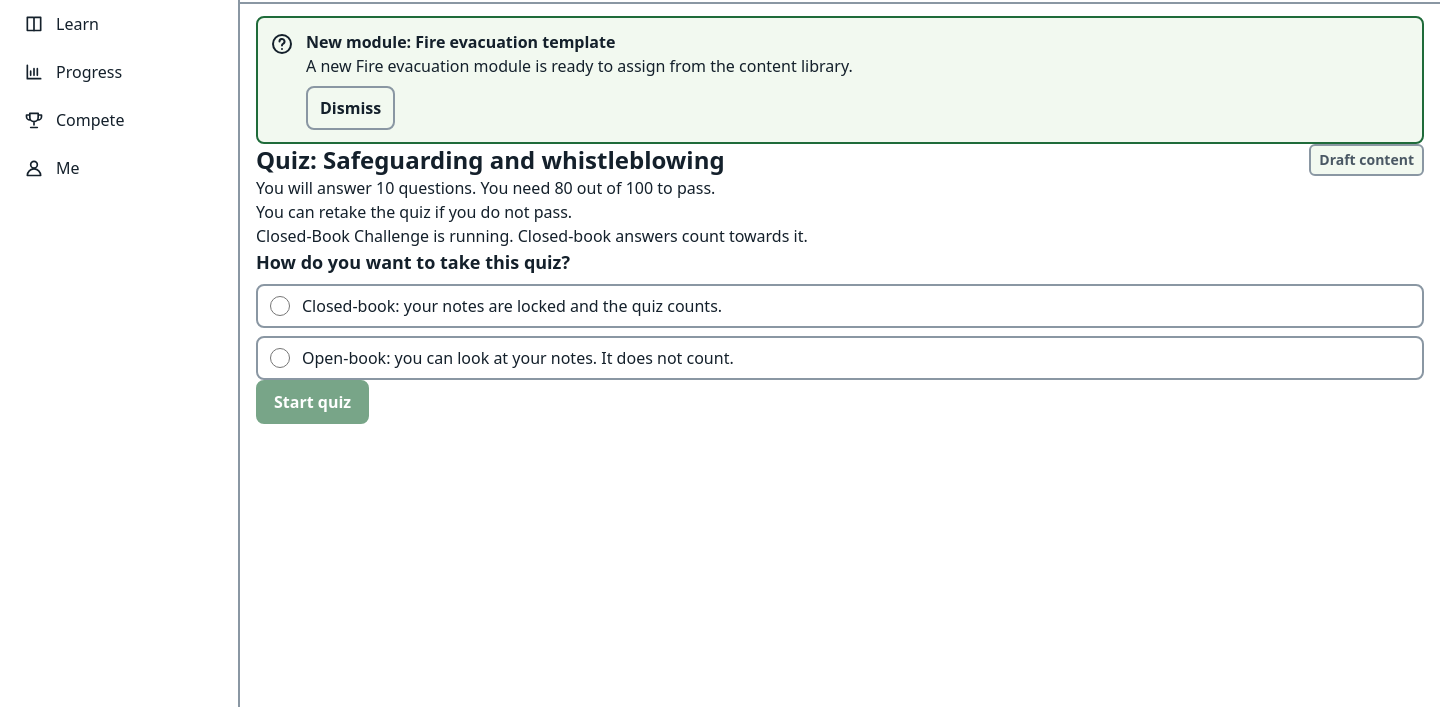
Test: S6 closed-book choice and locked mode › shows no Learn more links in feedback during a closed attempt but still explains the answer
The image size is (1440, 707).
Click the radio button labelled "Closed-book: your notes are locked and the quiz counts.". click: (280, 306)
box: [270,296,290,316]
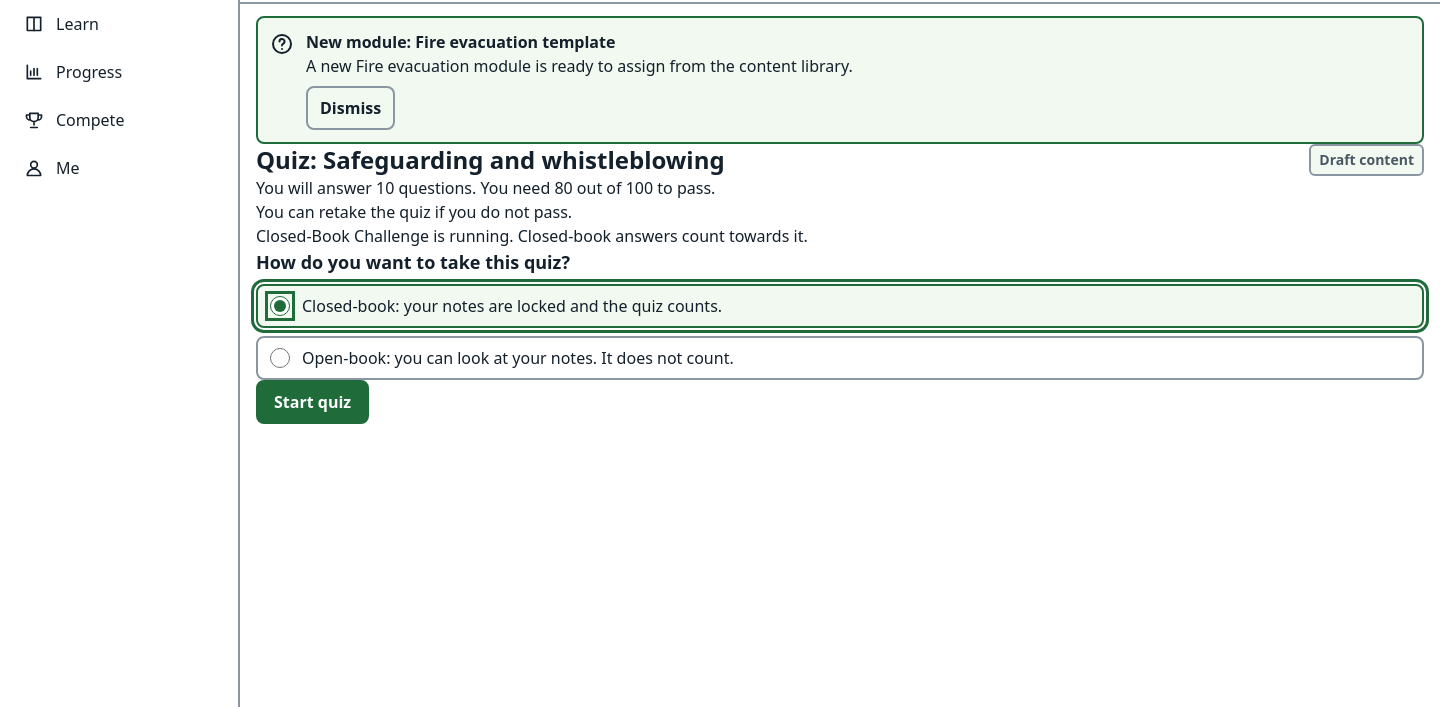
Click the button "Start quiz". click: (313, 402)
box: [256,380,369,424]
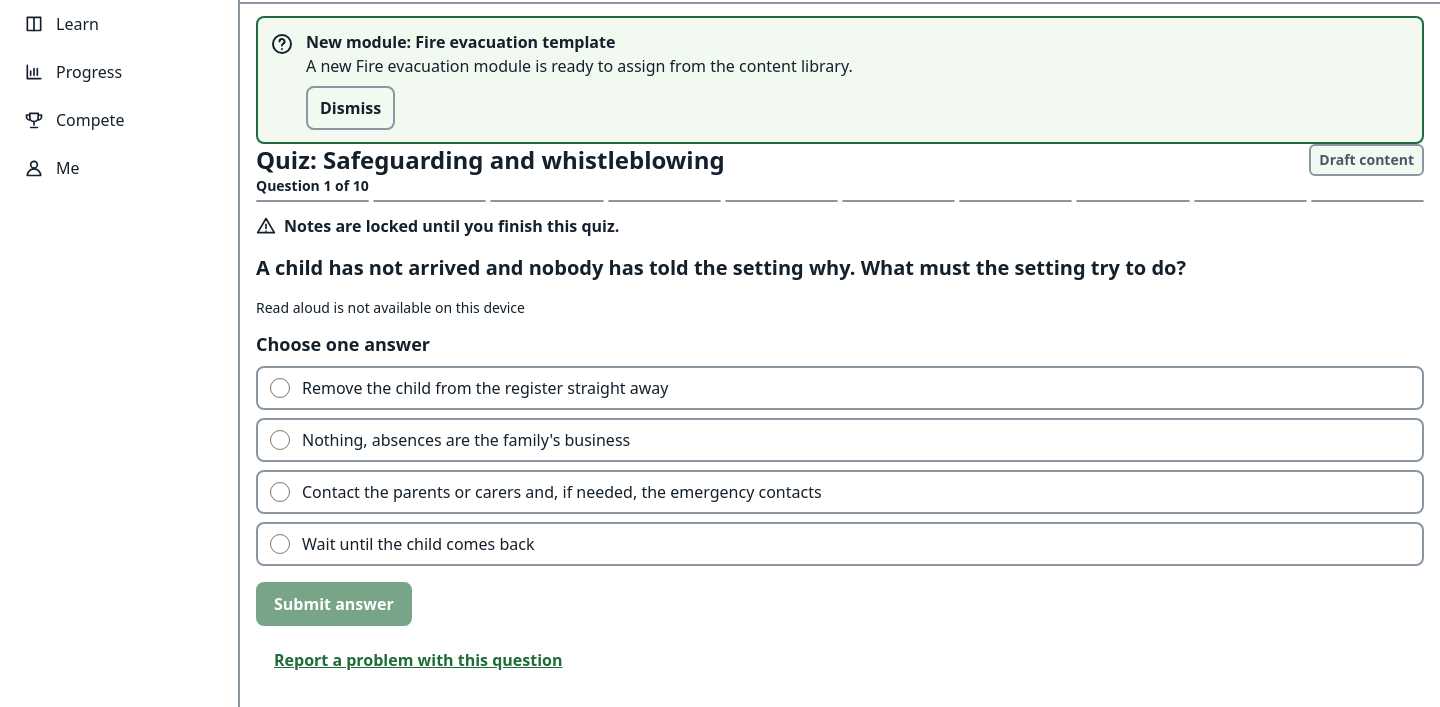
Check: the heading with test id "question-prompt" is shown, box [256,254,1186,281]
Click the radio button labelled "Nothing, absences are the family's business". click: (280, 440)
box: [270,430,290,450]
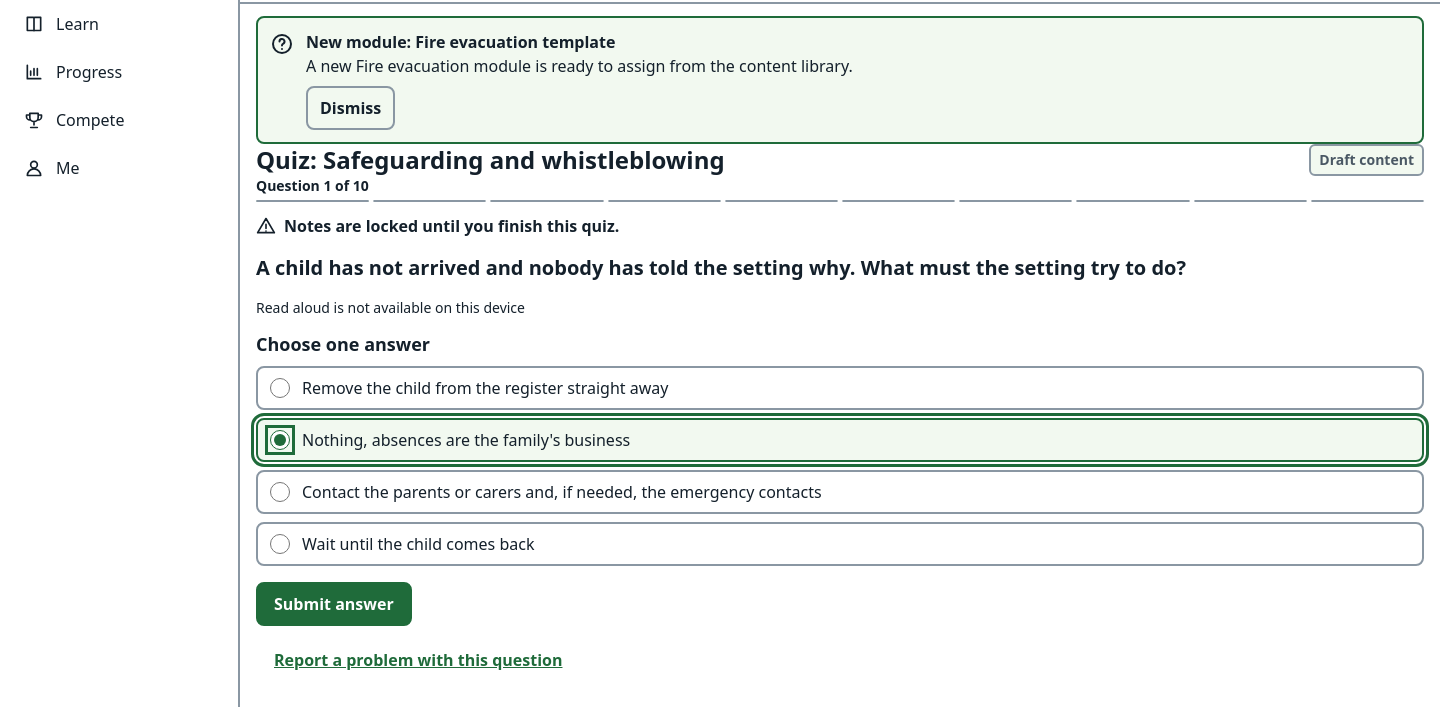
Click the button "Submit answer". click: (334, 604)
box: [256,582,412,626]
(page scrolled)
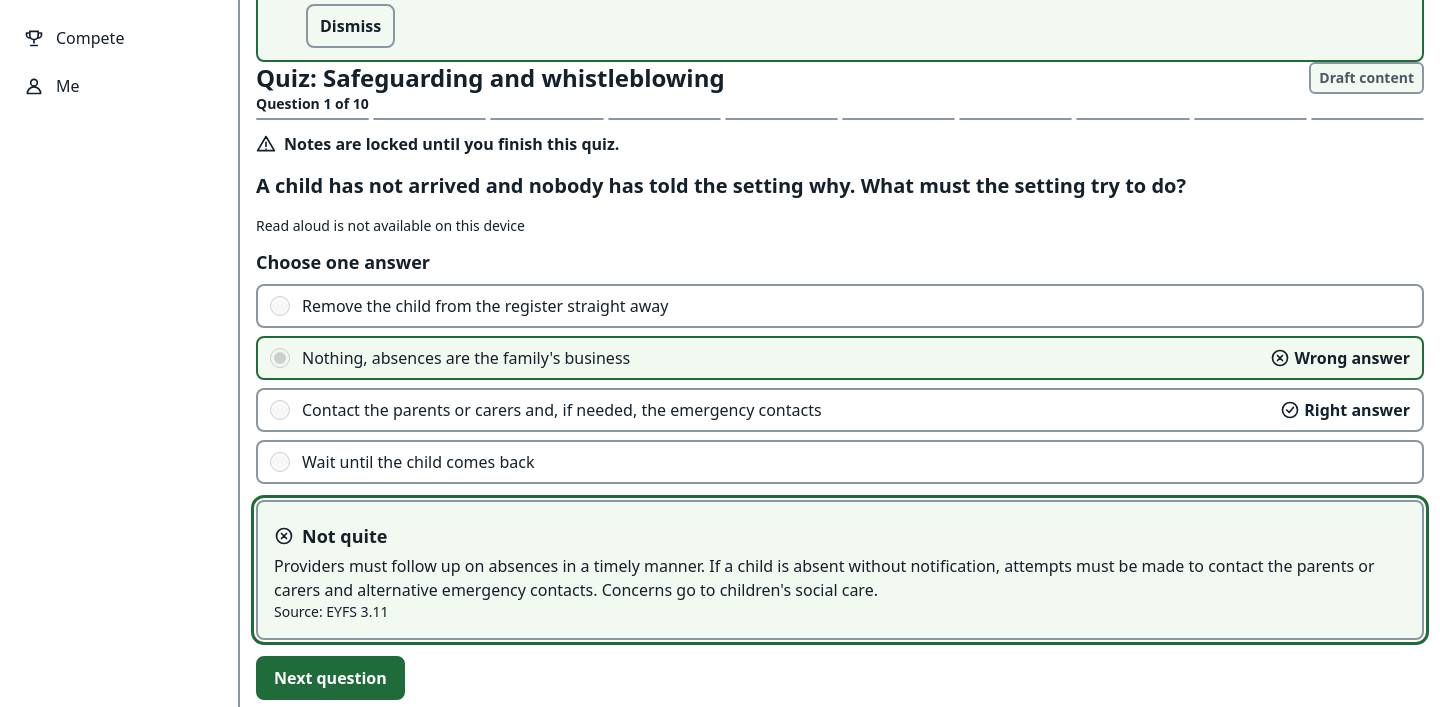
Check: the text "Providers must follow up on absences in a timely manner. If a child is absent without notification, attempts must be mad" is shown, box [274,555,1374,601]
